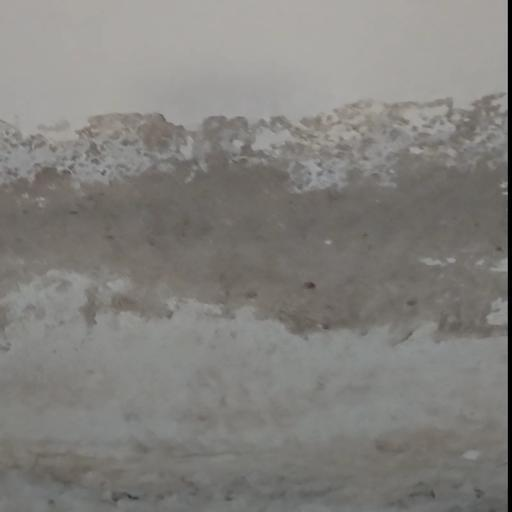peeling: (9, 82, 512, 367)
